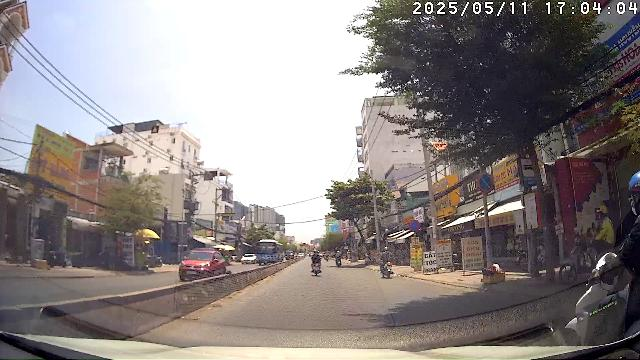131a-cam-do-xe: (476, 172, 494, 194), (409, 220, 421, 232)
